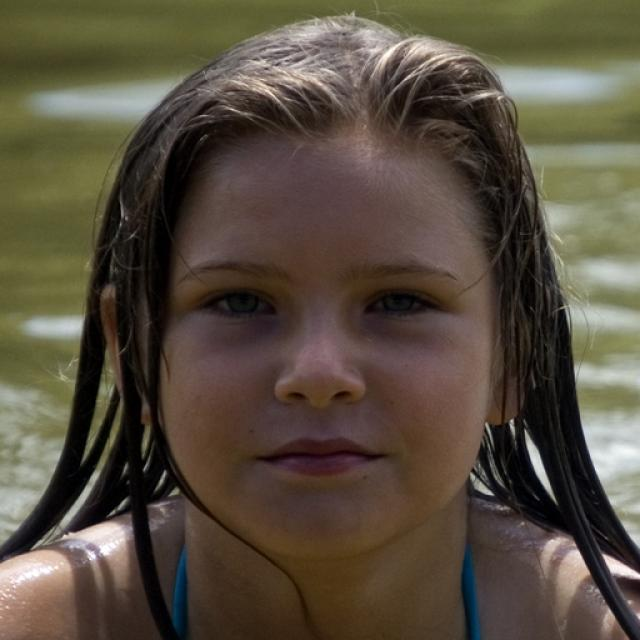neutral: (160, 120, 492, 558)
